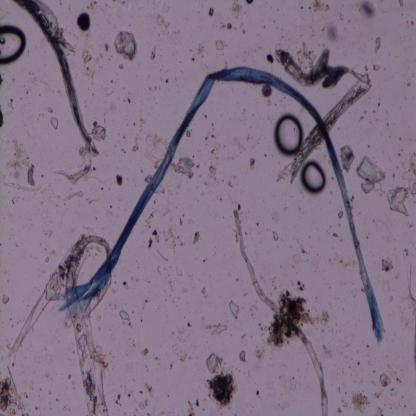Air bubble: (274, 111, 302, 155), (0, 24, 28, 65), (302, 160, 327, 194)
Background material: (264, 288, 327, 350), (387, 152, 416, 215), (206, 352, 238, 409), (114, 380, 156, 414), (6, 165, 45, 193), (356, 158, 388, 192), (0, 370, 25, 413), (4, 138, 30, 170), (114, 30, 140, 62), (140, 133, 168, 162), (148, 226, 178, 252), (170, 328, 190, 366), (172, 157, 196, 184), (339, 141, 356, 174), (40, 183, 62, 207), (81, 50, 98, 80), (351, 390, 373, 413), (358, 2, 378, 23), (319, 24, 339, 44), (76, 8, 92, 32), (46, 105, 60, 132), (408, 270, 416, 316), (190, 41, 206, 63), (206, 321, 231, 335), (284, 373, 300, 394), (228, 298, 242, 320), (91, 123, 107, 142), (117, 306, 132, 326), (378, 256, 394, 274), (312, 0, 333, 13), (186, 398, 201, 416), (65, 188, 84, 202), (102, 80, 115, 100), (378, 370, 392, 387), (411, 326, 416, 370), (214, 39, 228, 54), (155, 13, 169, 28), (131, 133, 142, 152), (210, 142, 222, 158), (265, 51, 277, 66), (148, 43, 158, 61), (208, 165, 219, 181), (297, 238, 307, 255), (231, 2, 244, 15), (153, 248, 167, 260), (372, 36, 382, 52), (261, 84, 272, 98), (193, 228, 202, 245), (255, 346, 265, 361), (238, 349, 247, 365), (0, 106, 6, 130), (88, 0, 99, 13), (11, 194, 25, 204), (0, 293, 10, 307), (115, 172, 123, 189), (339, 397, 350, 409), (374, 404, 385, 416), (173, 265, 184, 277), (104, 205, 115, 217), (271, 273, 279, 289), (374, 387, 384, 399), (138, 346, 150, 356), (297, 279, 306, 292), (28, 71, 37, 84), (86, 196, 100, 204), (43, 228, 53, 239), (206, 7, 216, 18), (390, 386, 400, 397), (140, 112, 146, 130), (121, 279, 130, 291), (402, 247, 410, 260), (271, 229, 280, 240), (200, 286, 208, 298), (168, 280, 174, 296), (6, 98, 14, 110), (251, 303, 258, 316), (68, 226, 77, 236), (223, 58, 231, 69), (250, 156, 256, 170), (103, 40, 110, 52), (260, 322, 268, 332), (142, 294, 152, 302), (16, 316, 26, 324), (239, 332, 247, 342), (68, 373, 74, 386), (310, 26, 316, 38), (155, 263, 161, 275), (182, 286, 190, 295), (337, 210, 343, 222), (219, 20, 226, 30), (47, 399, 53, 410), (44, 253, 50, 264), (332, 232, 341, 239), (399, 0, 405, 10), (227, 20, 233, 30), (256, 389, 262, 399), (252, 221, 262, 227), (124, 95, 131, 103), (214, 195, 222, 202), (202, 256, 210, 263), (63, 404, 70, 412), (228, 180, 234, 189), (51, 249, 57, 258), (336, 384, 341, 394), (245, 0, 255, 5), (57, 86, 62, 96), (240, 27, 246, 35), (0, 75, 4, 87), (321, 344, 327, 352), (349, 194, 355, 202), (152, 353, 158, 361), (300, 40, 306, 48), (338, 257, 344, 265), (337, 406, 343, 414), (7, 342, 12, 351), (394, 273, 400, 280), (358, 115, 364, 122), (117, 62, 123, 69), (202, 180, 208, 187), (53, 396, 60, 402), (173, 28, 180, 34), (407, 221, 413, 228), (265, 98, 271, 105), (233, 275, 239, 282), (356, 359, 362, 366), (339, 12, 344, 20), (179, 217, 184, 225), (236, 202, 241, 210), (367, 359, 372, 367), (372, 380, 378, 386), (396, 377, 402, 383), (404, 322, 410, 328), (243, 230, 249, 236), (152, 84, 158, 90), (122, 134, 127, 141), (159, 74, 163, 82), (170, 214, 174, 222), (144, 364, 148, 372), (99, 50, 103, 58), (264, 150, 268, 158), (406, 20, 410, 28), (179, 242, 185, 247), (38, 386, 43, 392), (121, 148, 126, 154), (204, 134, 209, 140), (44, 373, 50, 378), (397, 136, 403, 141), (406, 82, 412, 87), (329, 257, 333, 264), (410, 19, 414, 26), (247, 132, 250, 141), (48, 387, 51, 396), (25, 390, 28, 399), (186, 322, 191, 327), (11, 363, 16, 368), (34, 405, 39, 410), (341, 25, 346, 30), (94, 216, 99, 221), (146, 410, 150, 416), (182, 212, 186, 218), (26, 91, 32, 95), (364, 108, 368, 114), (390, 296, 394, 302), (196, 163, 200, 169), (44, 246, 48, 252), (147, 86, 153, 90), (59, 0, 62, 7), (366, 144, 370, 149), (308, 5, 312, 10), (397, 152, 402, 156), (300, 5, 304, 10), (372, 108, 376, 113), (392, 173, 396, 178), (210, 121, 214, 126), (140, 318, 144, 323), (100, 186, 104, 191), (366, 343, 370, 348), (40, 173, 44, 178), (385, 354, 390, 358), (165, 78, 168, 84), (170, 364, 173, 370), (372, 370, 376, 374), (26, 303, 30, 307), (386, 122, 390, 126), (122, 0, 126, 4), (72, 350, 76, 354), (8, 317, 12, 321), (133, 344, 137, 348), (147, 280, 151, 284), (122, 86, 126, 90), (130, 275, 133, 280), (92, 92, 95, 97), (191, 155, 195, 158), (109, 80, 113, 83), (204, 114, 207, 118), (159, 66, 162, 70), (372, 219, 375, 223), (413, 201, 416, 205), (133, 122, 136, 126), (404, 404, 406, 409), (387, 363, 389, 368), (167, 393, 169, 398), (112, 0, 117, 2), (344, 391, 347, 394), (348, 20, 351, 23), (360, 379, 363, 382), (263, 25, 266, 28), (378, 97, 380, 101), (58, 340, 60, 344), (88, 86, 90, 90), (401, 12, 403, 16), (212, 136, 216, 138), (354, 380, 356, 384), (38, 94, 42, 96), (276, 26, 278, 30), (394, 371, 396, 375), (378, 102, 380, 106), (12, 324, 14, 328), (234, 175, 236, 179), (0, 243, 2, 246), (282, 35, 284, 38), (390, 406, 392, 409), (348, 366, 351, 368), (384, 403, 386, 406), (368, 232, 370, 235), (92, 83, 94, 86), (400, 370, 403, 372), (370, 121, 372, 124), (39, 243, 42, 245), (366, 236, 369, 238), (167, 31, 169, 34), (273, 20, 275, 22), (129, 338, 131, 340), (404, 82, 406, 84), (388, 53, 390, 55)
Cellulose filter fibre: (64, 63, 386, 343), (233, 208, 329, 414), (11, 234, 114, 415), (14, 0, 101, 180), (279, 47, 376, 184)
